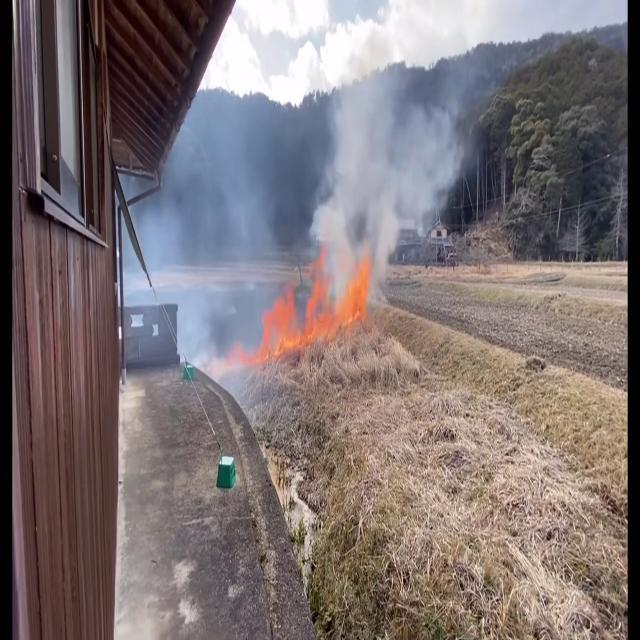Fire: (256, 245, 374, 364), (256, 270, 332, 366)
Smoke: (145, 28, 486, 368), (296, 23, 487, 266)
